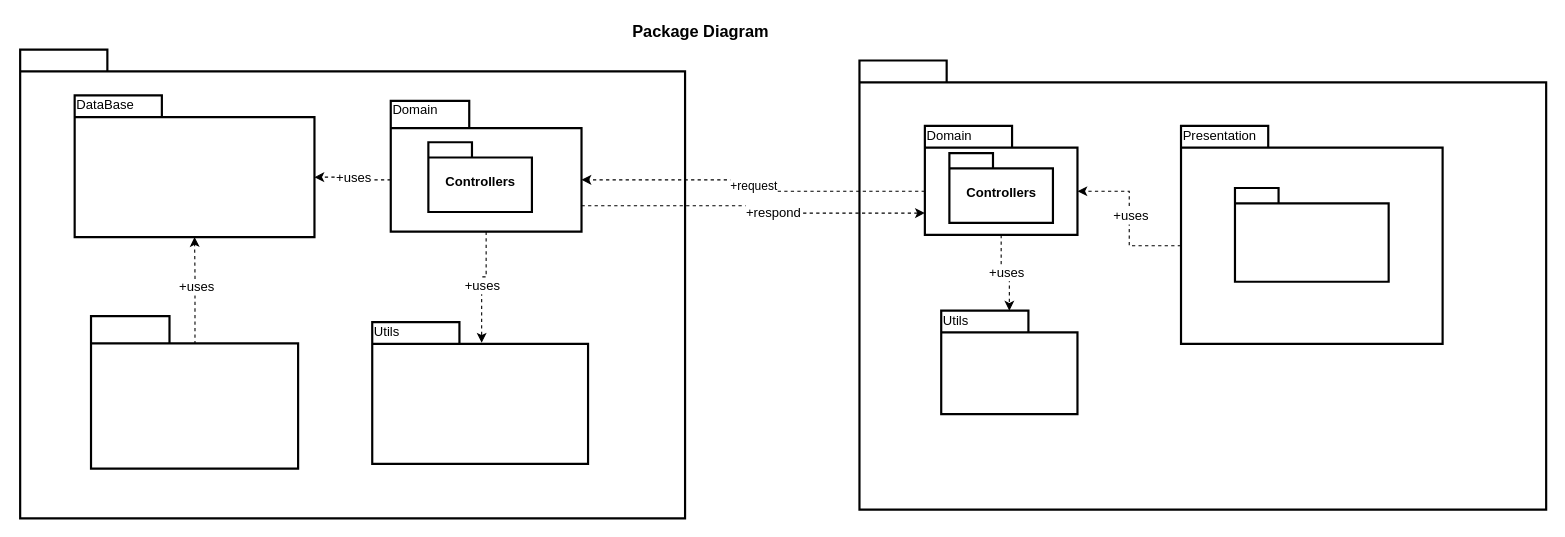
Image size: 1565x537. Some labels were removed from this diagram. The box of each missing label's shape, as (x1, y1, x2, y2) in pixels:
Client: (858, 59, 1547, 510)
Observe: (89, 314, 299, 469)
Server: (19, 48, 686, 519)
Views: (1233, 186, 1389, 282)
